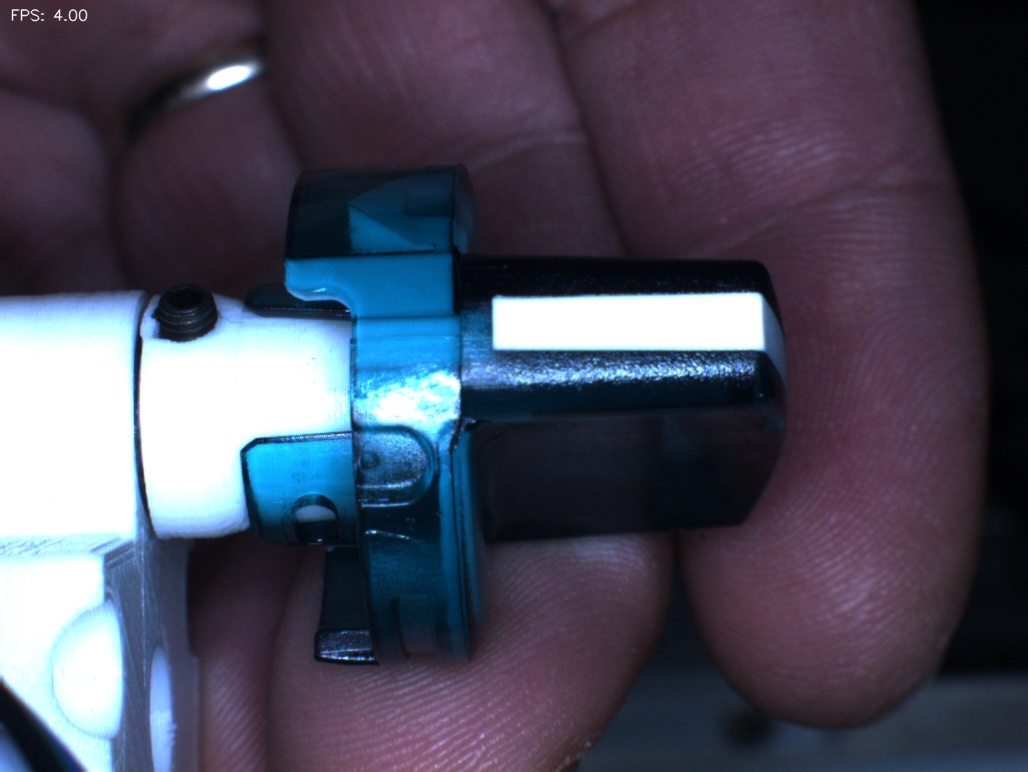DentOk: (335, 179, 399, 247)
